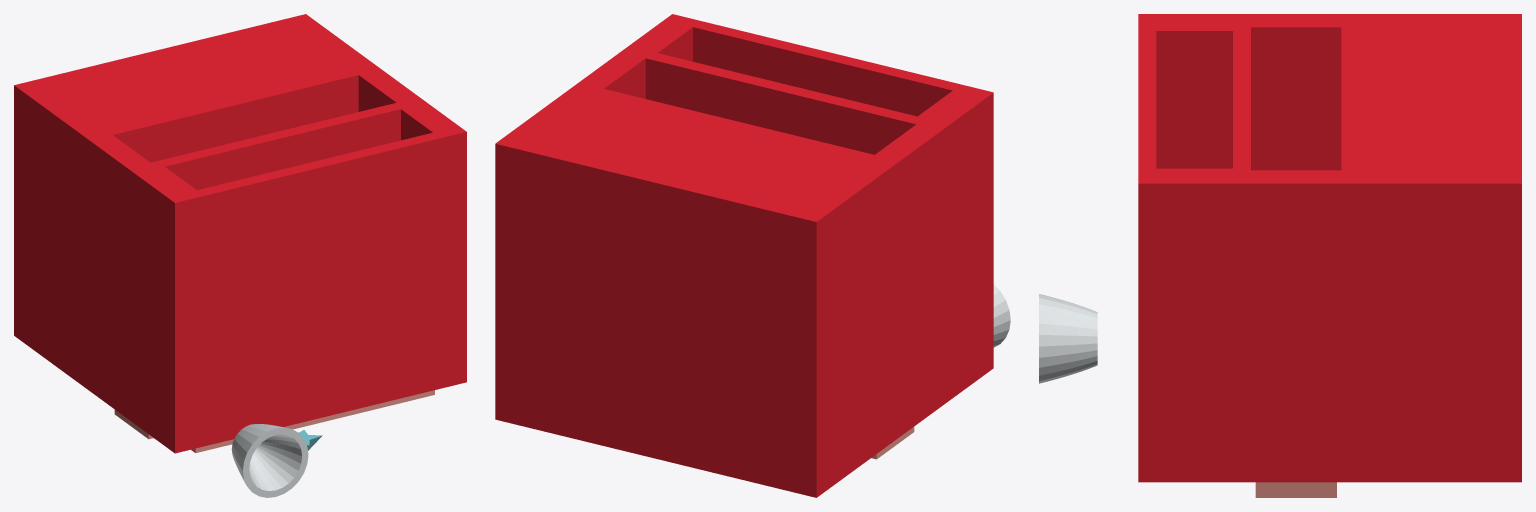
The model's file is tinker.obj.
The picture shows the model from 3 angles, left to right: view 1: azimuth 30°, elevation 25°; view 2: azimuth 150°, elevation 25°; view 3: azimuth 270°, elevation 25°; orthographic projection. The views are drawn at different scales.
Parts seen in each view (by area): view 1: group_0_15277357, group_0_14541540, group_0_15308428; view 2: group_0_15277357, group_0_14541540; view 3: group_0_15277357, group_0_14541540, group_0_15308428.
Boxes of the visible parts, box(x1,y1,x2,y2) form: group_0_15277357: box(14, 14, 466, 453); group_0_14541540: box(231, 424, 308, 497); group_0_15308428: box(114, 390, 434, 453); group_0_15277357: box(495, 14, 993, 497); group_0_14541540: box(993, 284, 1010, 347); group_0_15277357: box(1138, 14, 1521, 482); group_0_14541540: box(1039, 294, 1097, 383); group_0_15308428: box(1255, 482, 1336, 497).
Size of the model in its own units: 89 by 90 by 107.
